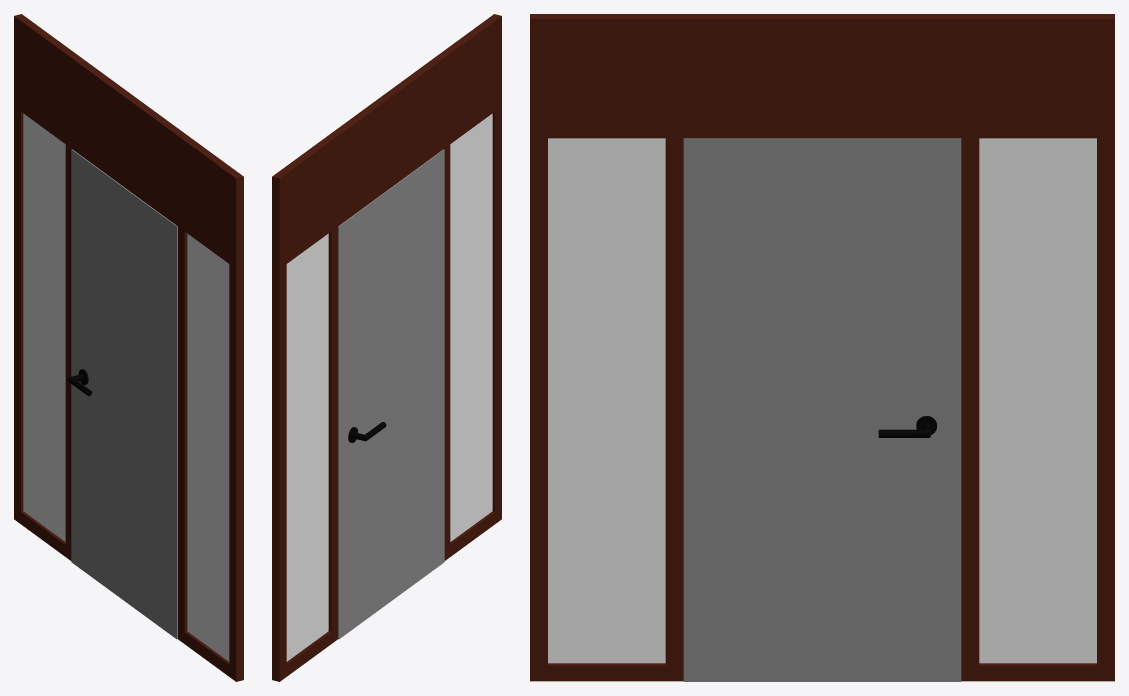
File: GlassFrameDoor.FBX
3 views of the same model, side by side, from view 1: azimuth 30°, elevation 25°; view 2: azimuth 150°, elevation 25°; view 3: azimuth 270°, elevation 25° (orthographic). The views are drawn at different scales.
Visible parts, largest first — view 1: Door, GlassFrameDoor, Glass; view 2: Door, GlassFrameDoor, Glass; view 3: Door, Glass, GlassFrameDoor.
Part boxes in pixels (bbox=[...]): Door: bbox=[67, 149, 177, 639]; GlassFrameDoor: bbox=[14, 14, 243, 681]; Glass: bbox=[23, 113, 229, 661]; Door: bbox=[338, 149, 444, 639]; GlassFrameDoor: bbox=[272, 14, 501, 681]; Glass: bbox=[286, 113, 492, 661]; Door: bbox=[683, 138, 961, 681]; Glass: bbox=[548, 138, 1096, 663]; GlassFrameDoor: bbox=[530, 14, 1114, 681].
Bounding box in the file's own units: 21.65 × 200 × 250.
